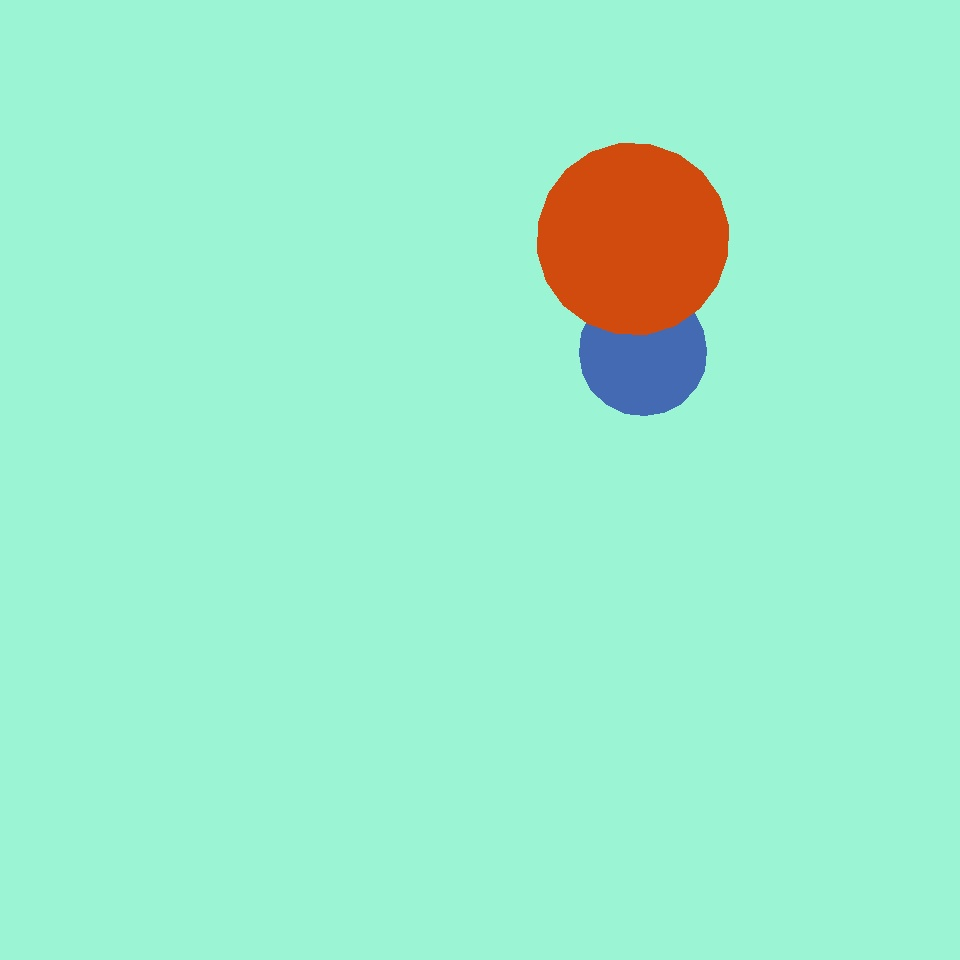circle: (276, 54, 481, 238), (388, 716, 488, 816)
triangle: (538, 144, 728, 334), (580, 288, 706, 416), (521, 400, 646, 525)
